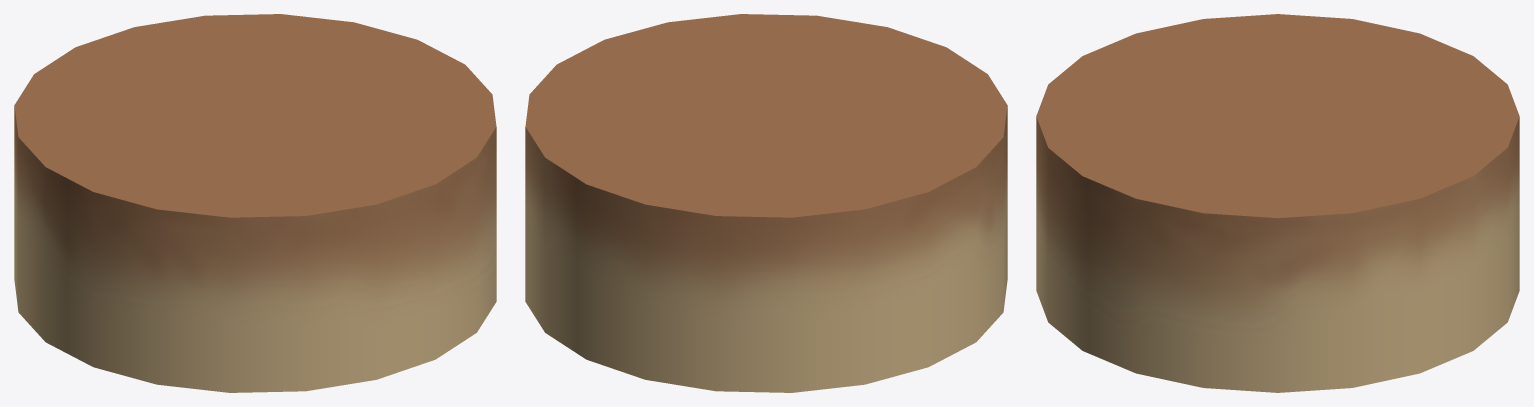
Rendered from bakeCake.fbx.
3 views of the same model, side by side, from view 1: azimuth 30°, elevation 25°; view 2: azimuth 150°, elevation 25°; view 3: azimuth 270°, elevation 25° (orthographic).
Visible parts, largest first — view 1: pasted__pasted__pCylinder1; view 2: pasted__pasted__pCylinder1; view 3: pasted__pasted__pCylinder1.
Part boxes in pixels (<box>): pasted__pasted__pCylinder1: <box>14,14,496,392</box>; pasted__pasted__pCylinder1: <box>525,14,1007,392</box>; pasted__pasted__pCylinder1: <box>1036,14,1519,392</box>.
Size of the model in its own units: 8 by 3.19 by 8.
